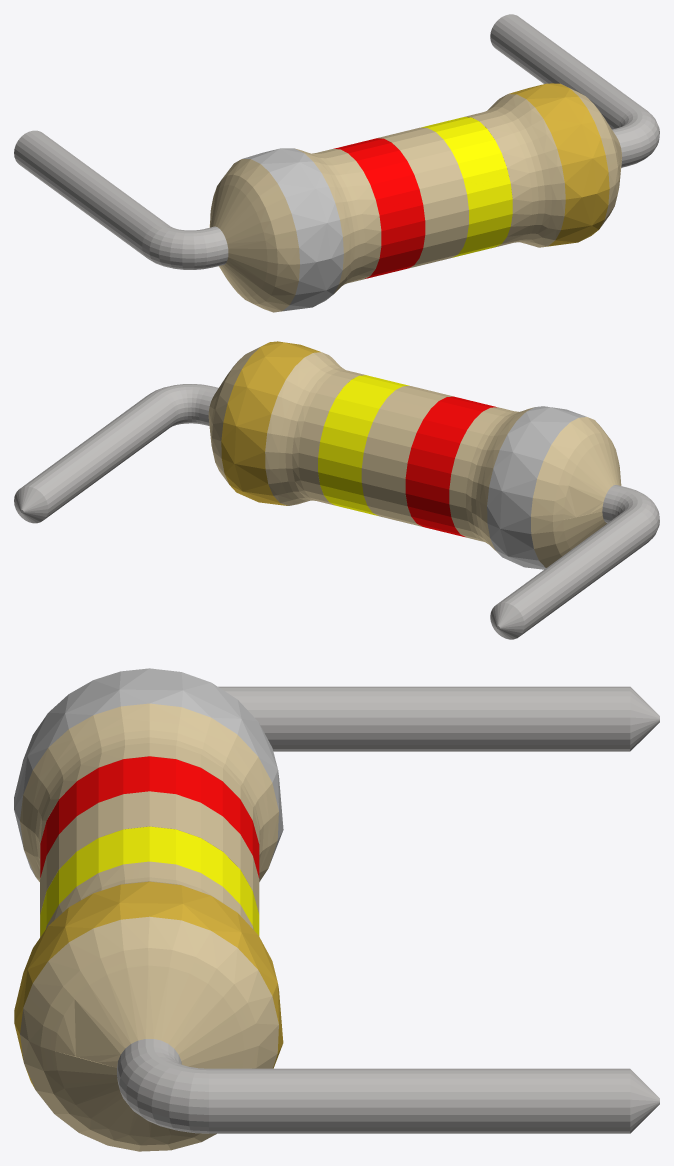
Rendered from Yageo CFR-25 Resistor Axial P7.62mm 820,0 kOhm.obj.
3 renders of one model, top to bottom at view 1: azimuth 30°, elevation 25°; view 2: azimuth 150°, elevation 25°; view 3: azimuth 270°, elevation 25°, orthographic. The views are drawn at different scales.
Parts seen in each view (by area): view 1: Yageo_CFR-25_Resistor_Axial_P7.62mm_820,0_kOhm; view 2: Yageo_CFR-25_Resistor_Axial_P7.62mm_820,0_kOhm; view 3: Yageo_CFR-25_Resistor_Axial_P7.62mm_820,0_kOhm.
Boxes of the visible parts, x1,y1,x2,y2 form: Yageo_CFR-25_Resistor_Axial_P7.62mm_820,0_kOhm: (14, 14, 659, 312); Yageo_CFR-25_Resistor_Axial_P7.62mm_820,0_kOhm: (14, 341, 659, 639); Yageo_CFR-25_Resistor_Axial_P7.62mm_820,0_kOhm: (14, 668, 659, 1151).
Size of the model in its own units: 0.0158 by 0.00436 by 0.0105.
